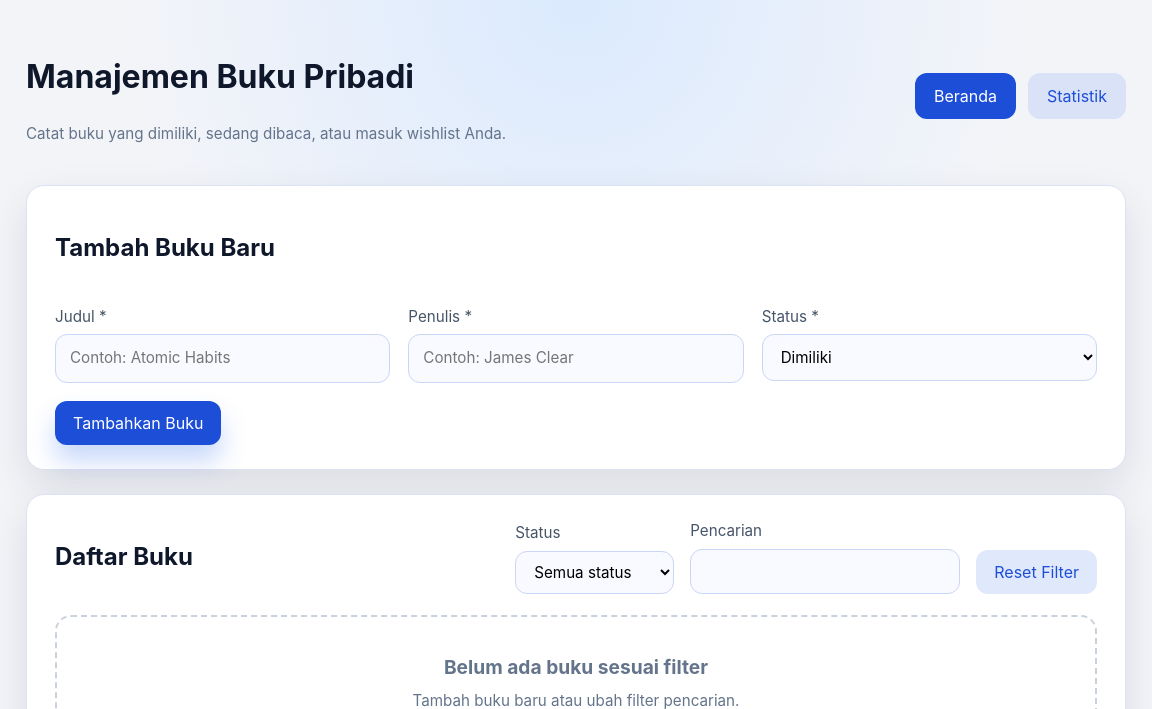
Test case: Aplikasi Manajemen Buku Pribadi › menampilkan statistik koleksi buku
The image size is (1152, 709).
Type "Domain-Driven Design" into the field labelled "Judul *" at (223, 359), box [55,334,390,383]
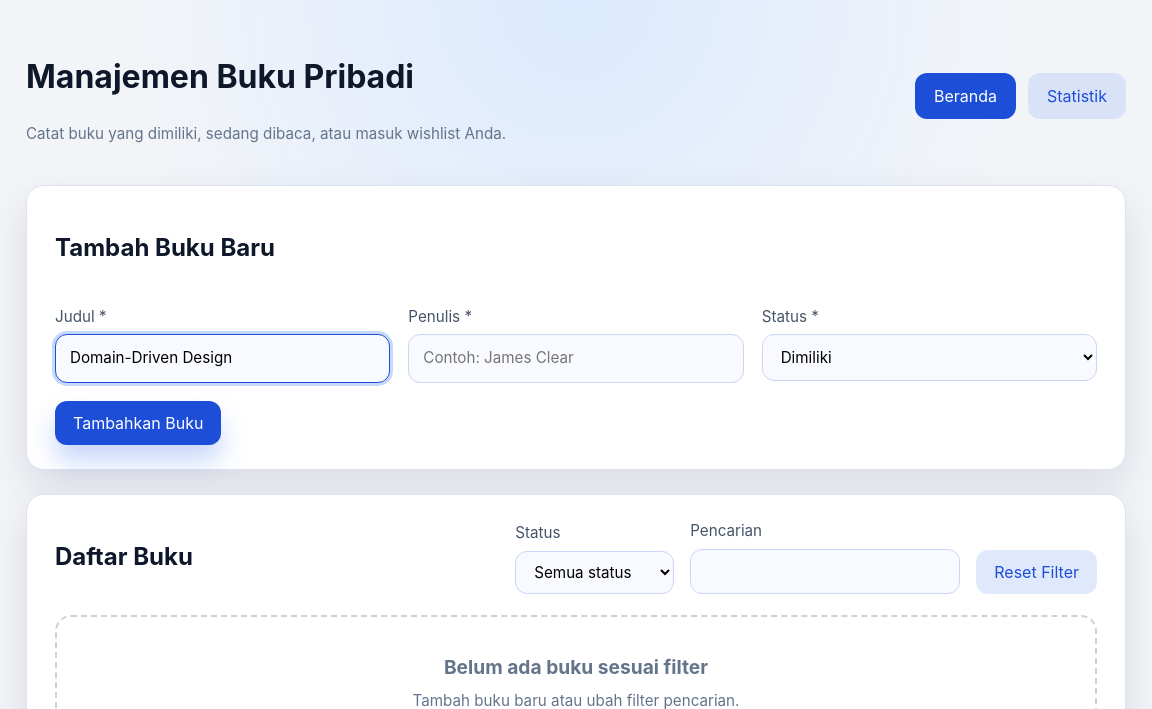
Type "Eric Evans" into the field labelled "Penulis *" at (576, 359), box [408,334,744,383]
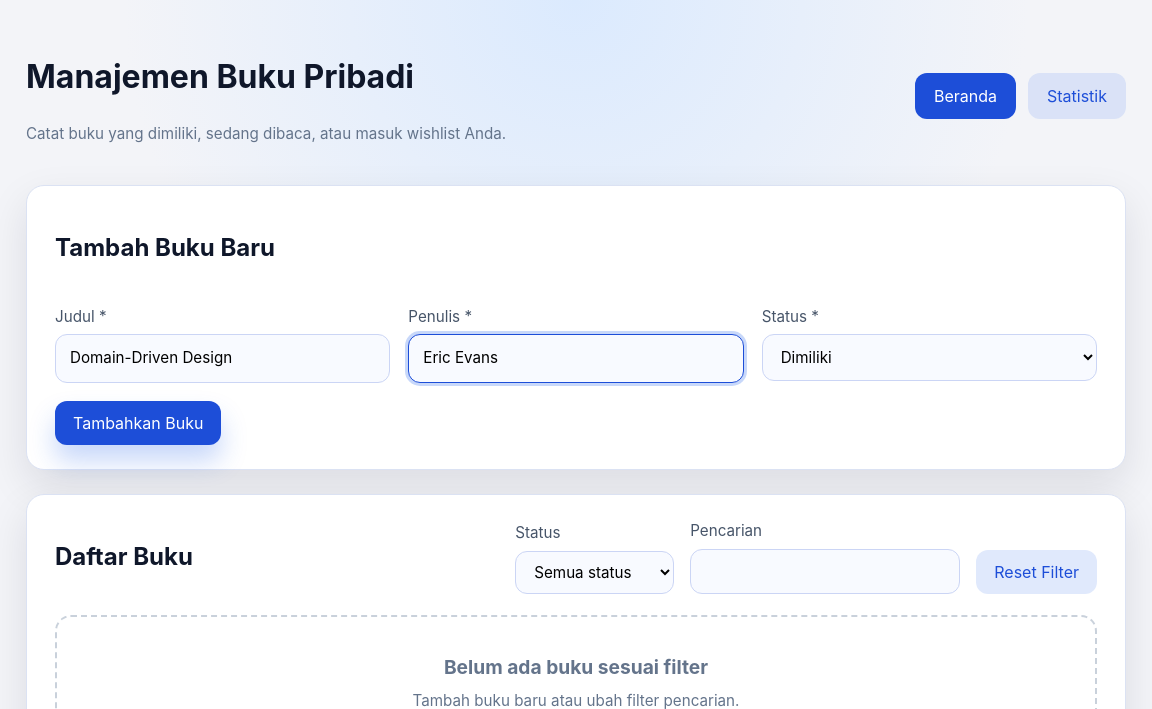
Select "Dimiliki" in the dropdown labelled "Status *" at (929, 358), box [762,334,1097,382]
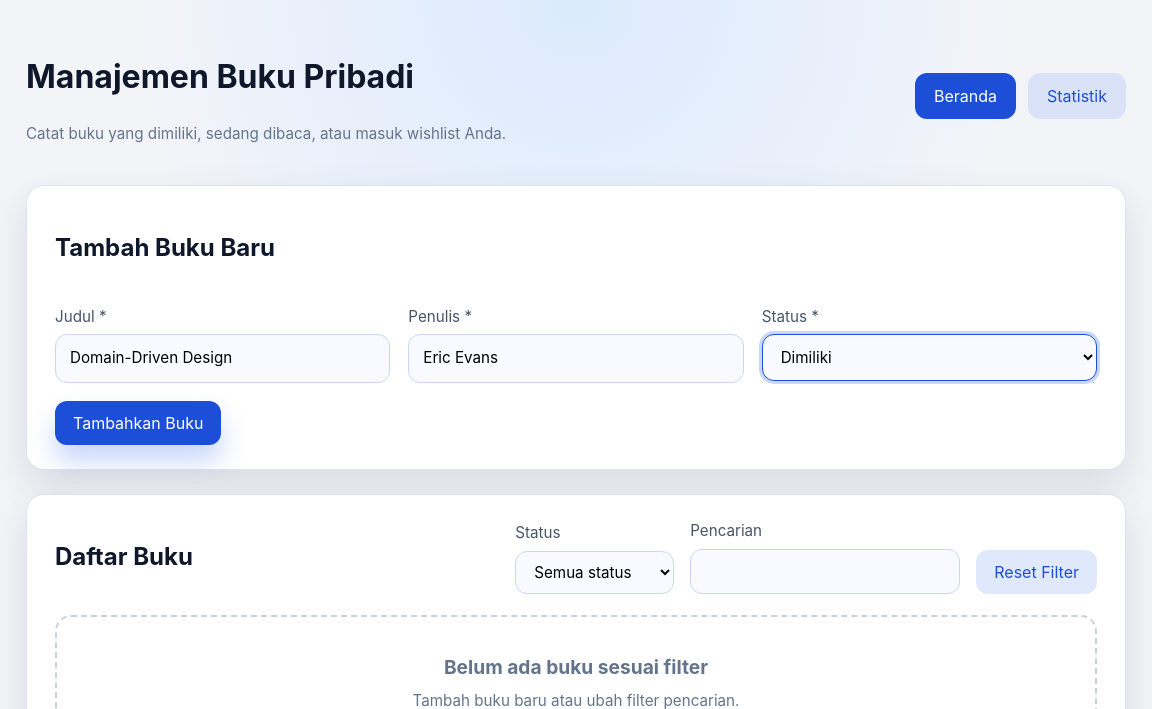
Click the button "Tambahkan Buku" at (138, 423), box [55,401,222,445]
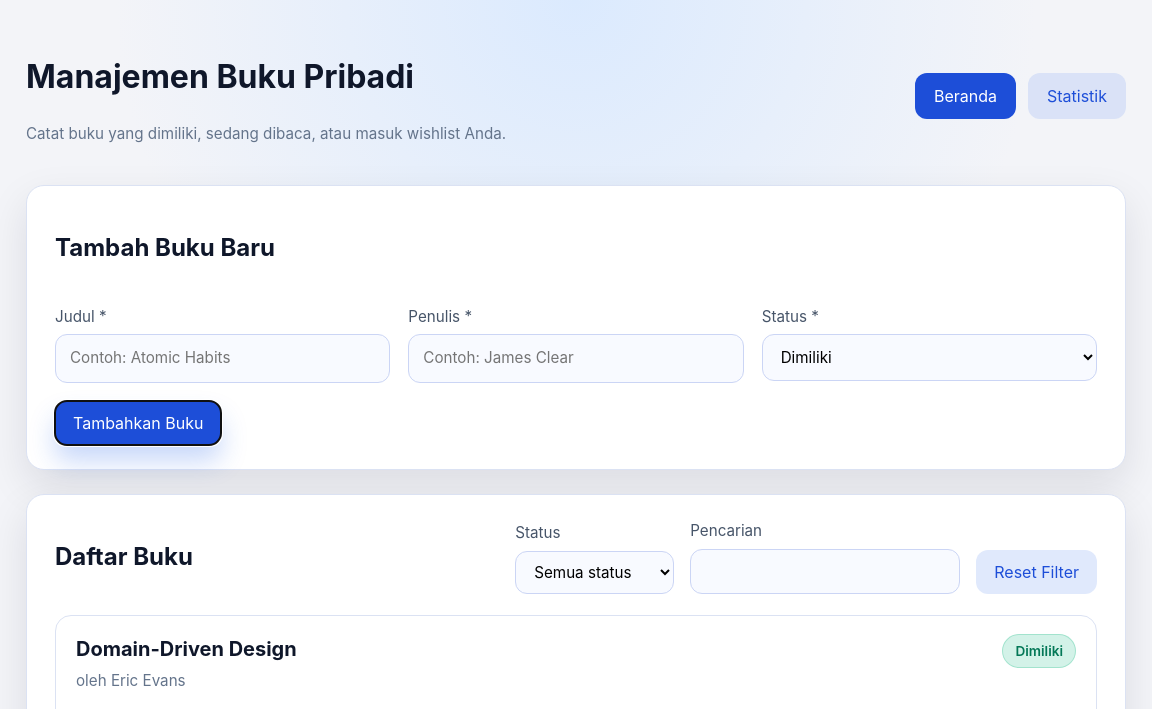
Click the link "Statistik" at (1077, 96), box [1028,73,1126,119]
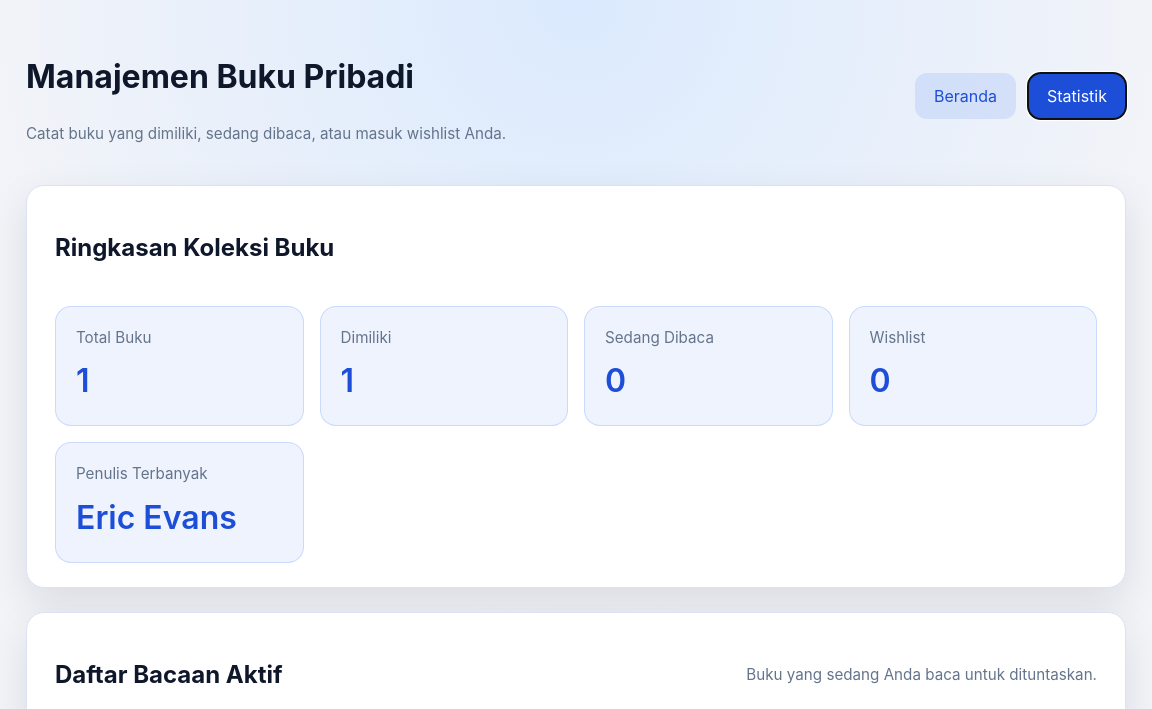
Expected: the 2nd text "1" is shown, [340,362,354,400]
Expected: the 2nd text "0" is shown, [870,362,891,400]
